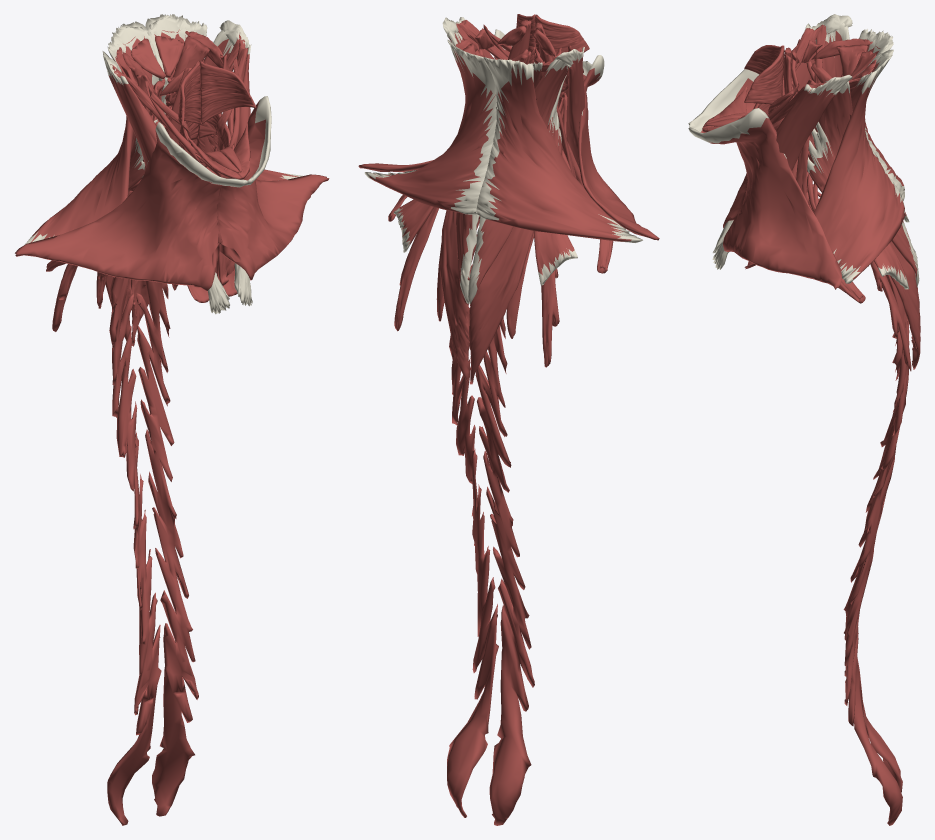
The model's file is muscular-neck-balanced.glb.
3 renders of one model, left to right at view 1: azimuth 30°, elevation 25°; view 2: azimuth 150°, elevation 25°; view 3: azimuth 270°, elevation 25°, orthographic. The views are drawn at different scales.
Parts seen in each view (by area): view 1: za.platysma-r, za.rotatores-l, za.rotatores-r, za.platysma-l, za.ascending-part-of-trapezius-muscle-r, za.sternocleidomastoid-muscle-r, za.superior-pharyngeal-constrictor-l, za.sternocleidomastoid-muscle-l, za.superior-pharyngeal-constrictor-r, za.ascending-part-of-trapezius-muscle-l, za.rectus-posterior-minor-capitis-muscle-l, za.rectus-posterior-major-capitis-muscle-l (+5 smaller); view 2: za.ascending-part-of-trapezius-muscle-r, za.rotatores-r, za.rotatores-l, za.ascending-part-of-trapezius-muscle-l, za.splenius-colli-muscle-r, za.platysma-r, za.splenius-colli-muscle-l, za.splenius-capitis-muscle-r, za.levator-scapulae-r, za.sternocleidomastoid-muscle-r, za.splenius-capitis-muscle-l, za.iliocostalis-colli-muscle (+6 smaller); view 3: za.platysma-l, za.ascending-part-of-trapezius-muscle-l, za.rotatores-l, za.sternocleidomastoid-muscle-l, za.rotatores-r, za.levator-scapulae-l, za.splenius-capitis-muscle-l, za.platysma-r, za.splenius-colli-muscle-l, za.superior-pharyngeal-constrictor-l, za.iliocostalis-colli-muscle, za.sternocleidomastoid-muscle-r (+7 smaller).
Part boxes in pixels (x1,y1,x2,y2): za.platysma-r: (15,122,247,290); za.rotatores-l: (136,281,198,816); za.rotatores-r: (107,276,161,825); za.platysma-l: (217,96,329,280); za.ascending-part-of-trapezius-muscle-r: (24,21,168,244); za.sternocleidomastoid-muscle-r: (102,51,229,314); za.superior-pharyngeal-constrictor-l: (199,60,256,123); za.sternocleidomastoid-muscle-l: (219,20,252,306); za.superior-pharyngeal-constrictor-r: (178,61,200,125); za.ascending-part-of-trapezius-muscle-l: (145,14,302,180); za.rectus-posterior-minor-capitis-muscle-l: (155,36,183,77); za.rectus-posterior-major-capitis-muscle-l: (163,36,209,102); za.ascending-part-of-trapezius-muscle-r: (474,57,642,242); za.rotatores-r: (475,317,534,825); za.rotatores-l: (447,219,498,817); za.ascending-part-of-trapezius-muscle-l: (364,44,497,214); za.splenius-colli-muscle-r: (469,227,533,384); za.platysma-r: (562,55,659,240); za.splenius-colli-muscle-l: (439,50,484,383); za.splenius-capitis-muscle-r: (468,59,568,304); za.levator-scapulae-r: (534,75,577,285); za.sternocleidomastoid-muscle-r: (555,47,584,168); za.splenius-capitis-muscle-l: (446,19,479,303); za.iliocostalis-colli-muscle: (394,207,438,331); za.platysma-l: (688,108,841,289); za.ascending-part-of-trapezius-muscle-l: (814,49,904,283); za.rotatores-l: (844,312,909,825); za.sternocleidomastoid-muscle-l: (712,75,852,269); za.rotatores-r: (843,330,909,806); za.levator-scapulae-l: (807,122,909,289); za.splenius-capitis-muscle-l: (818,81,919,287); za.platysma-r: (688,69,759,227); za.splenius-colli-muscle-l: (813,126,920,369); za.superior-pharyngeal-constrictor-l: (744,46,784,104); za.iliocostalis-colli-muscle: (810,160,911,371); za.sternocleidomastoid-muscle-r: (713,14,852,253).
Size of the model in its own units: 0.2828 by 0.6899 by 0.1881.
